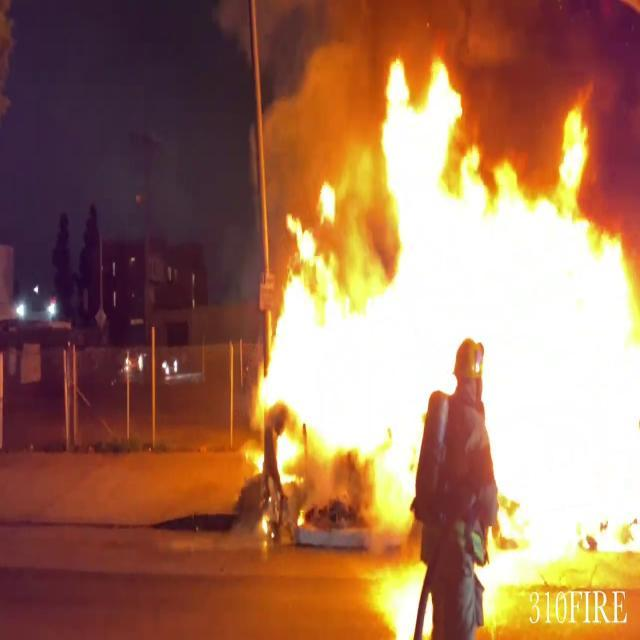Fire: (246, 43, 640, 607)
